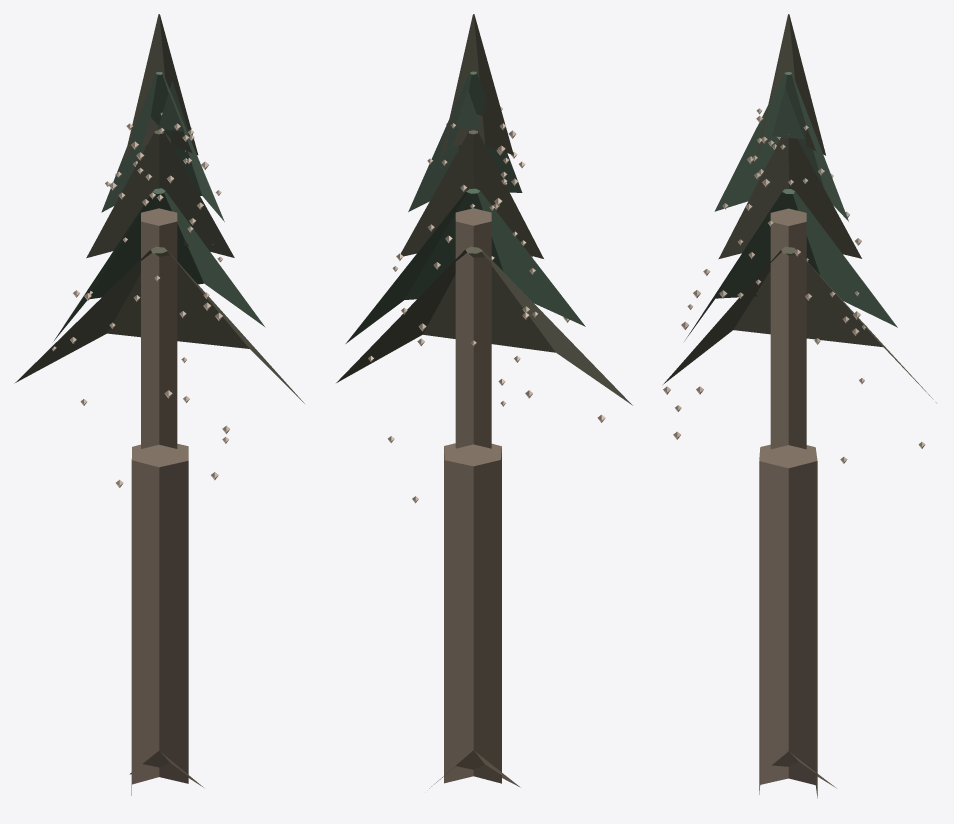
Rendered from shu.hongpi@flowering__winter.glb.
The picture shows the model from 3 angles, left to right: view 1: azimuth 30°, elevation 25°; view 2: azimuth 150°, elevation 25°; view 3: azimuth 270°, elevation 25°; orthographic projection.
Visible parts, largest first — view 1: shu.hongpi@flowering__winter; view 2: shu.hongpi@flowering__winter; view 3: shu.hongpi@flowering__winter.
Part boxes in pixels (left/top/right/bottom): shu.hongpi@flowering__winter: left=14, top=14, right=304, bottom=795; shu.hongpi@flowering__winter: left=336, top=14, right=632, bottom=788; shu.hongpi@flowering__winter: left=663, top=14, right=936, bottom=798.
Bounding box in the file's own units: 6.51 × 19.56 × 6.32.
